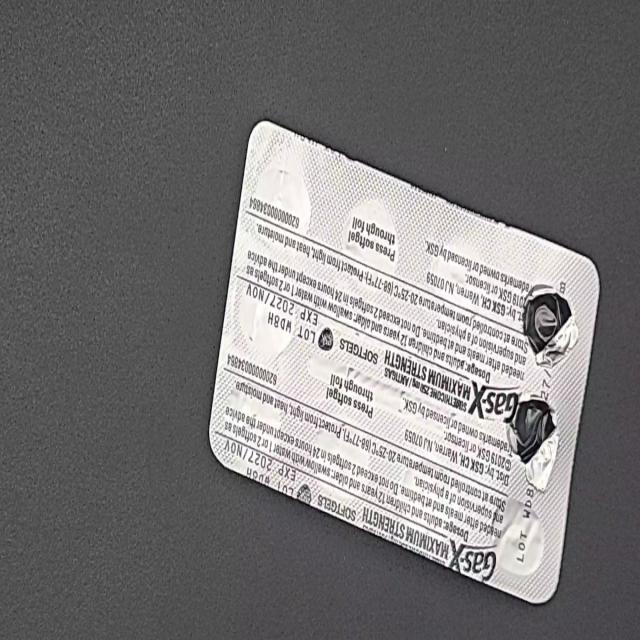defect: (505, 388, 562, 498), (521, 276, 581, 371)
